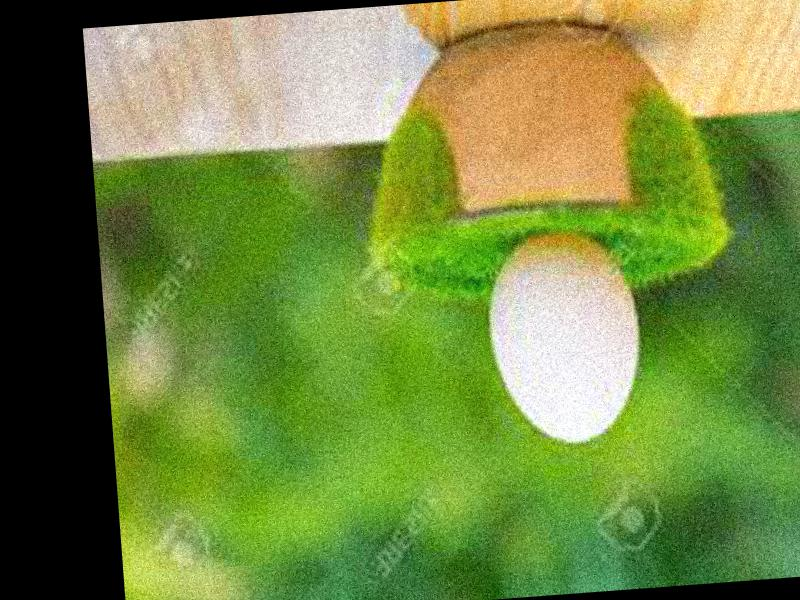Eggs: (480, 227, 643, 444)
